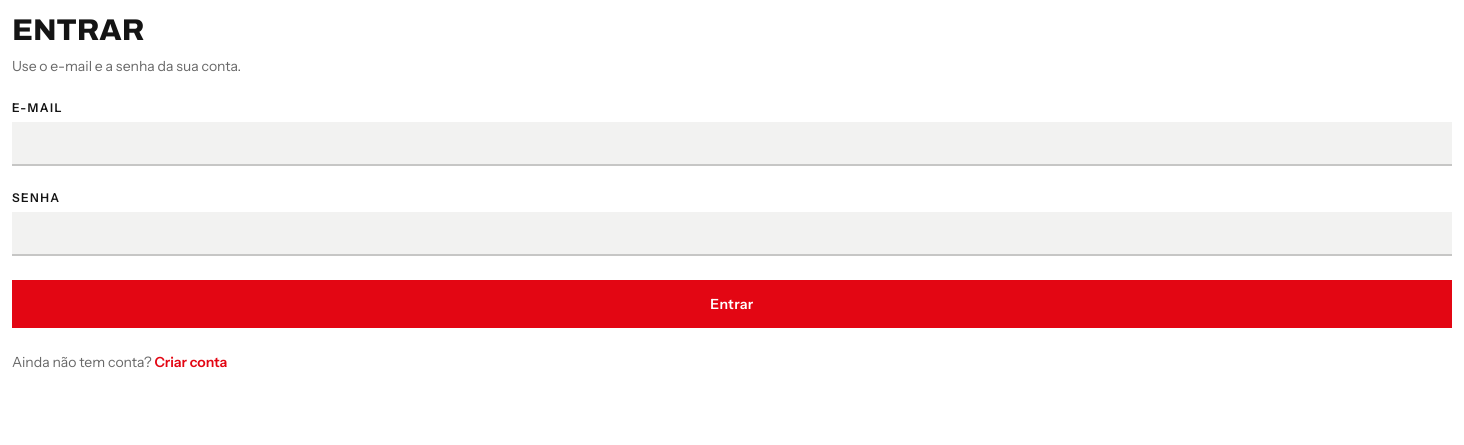
Test case: LoginForm › shows the server message for ACCOUNT_PENDING
The image size is (1464, 445).
Type "ana@x.com" into the field labelled "E-mail".
click(732, 144); type("ana@x.com")  # box [12, 122, 1452, 166]
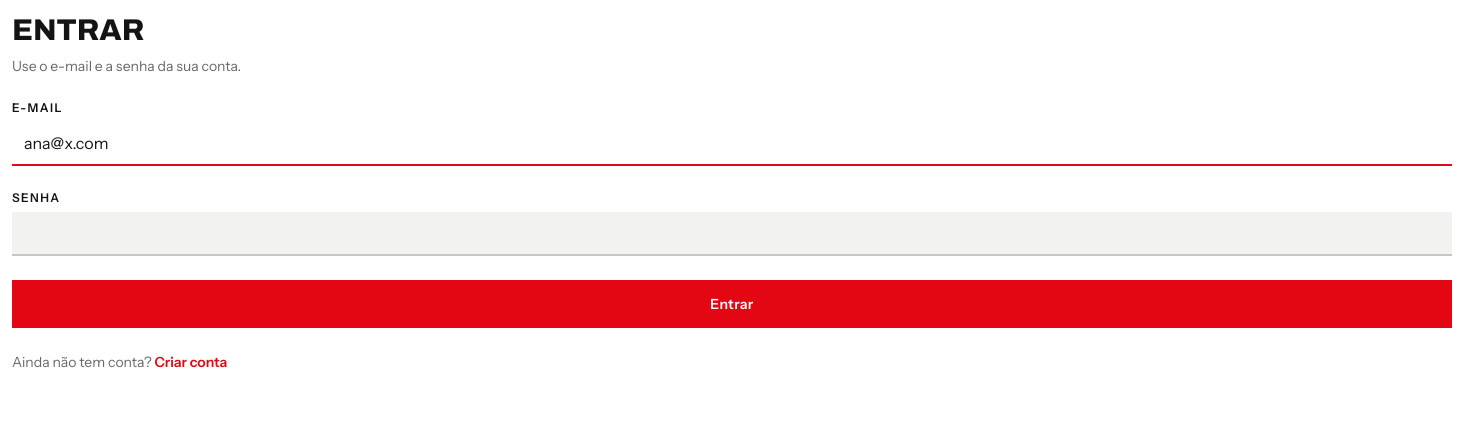
Type "senha-segura" into the password field labelled "Senha".
click(732, 234); type("senha-segura")  # box [12, 212, 1452, 256]
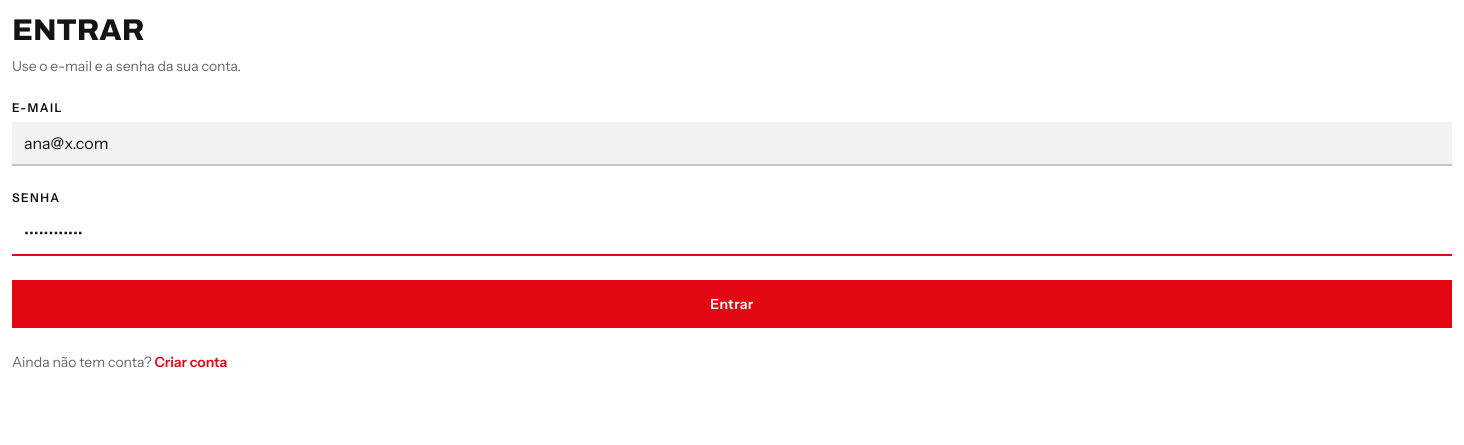
Click the button "Entrar".
click(732, 304)  # box [12, 280, 1452, 328]
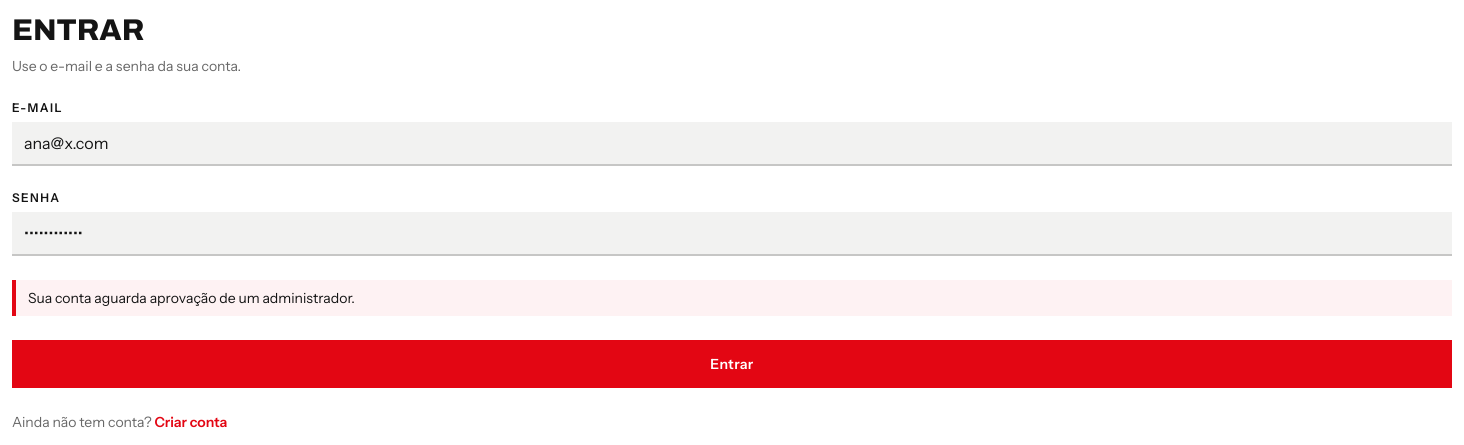
Result: the message reads "Sua conta aguarda aprovação de um administrador." at [28, 289, 355, 307]
